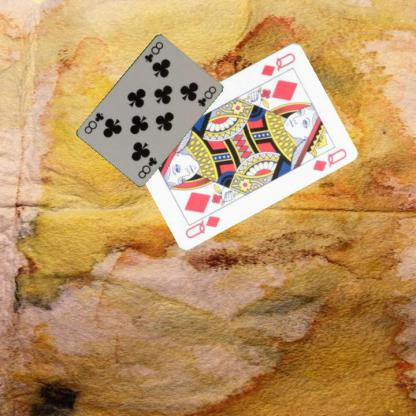8c: (142, 39, 165, 64), (136, 154, 158, 180)
Qd: (183, 206, 221, 240), (258, 50, 297, 77)
